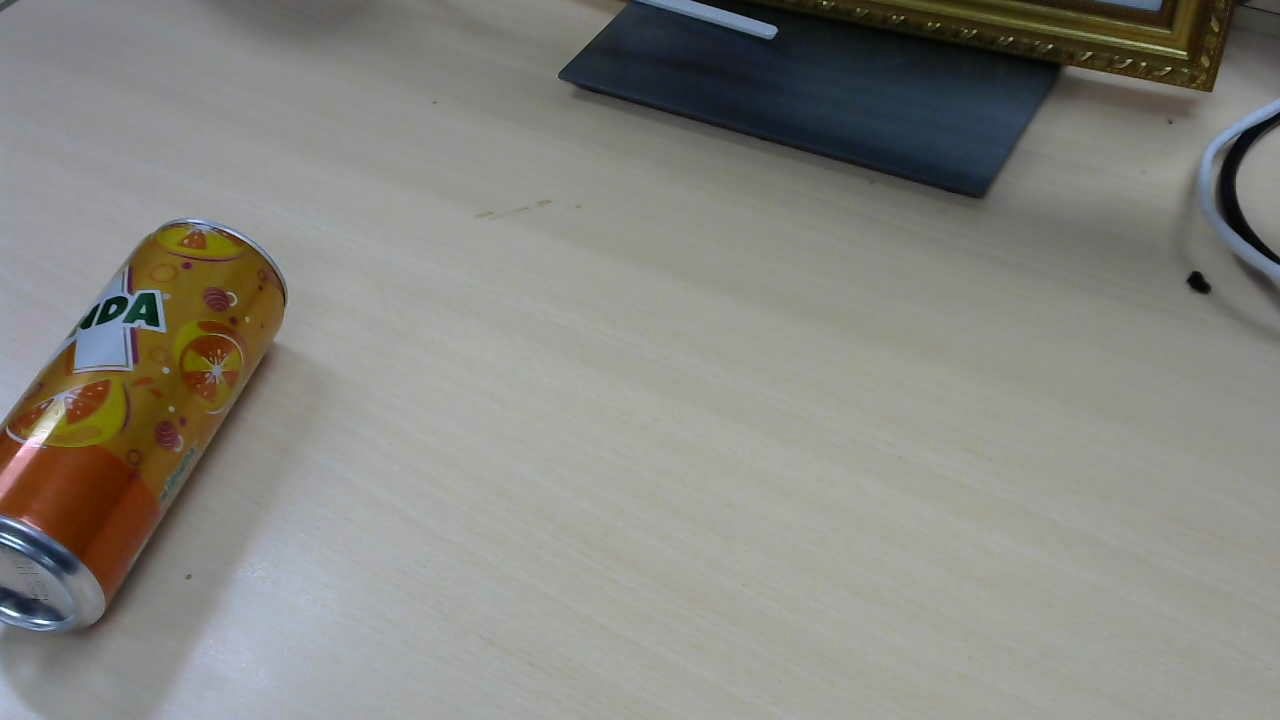Mirinda: (5, 220, 296, 639)
